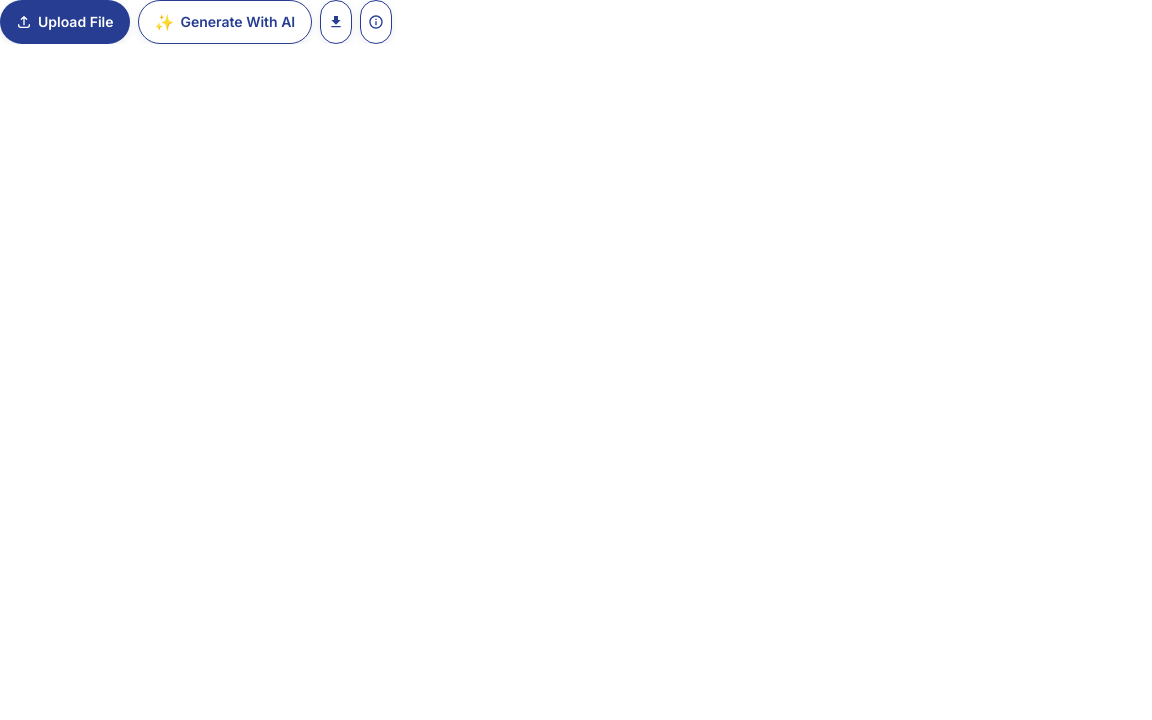
Test: UploadAndGenerateHeader uploaded files › leaves out counts a file does not have
Step 1. Click the button named "View uploaded files" → (376, 22), box [360,0,392,44]
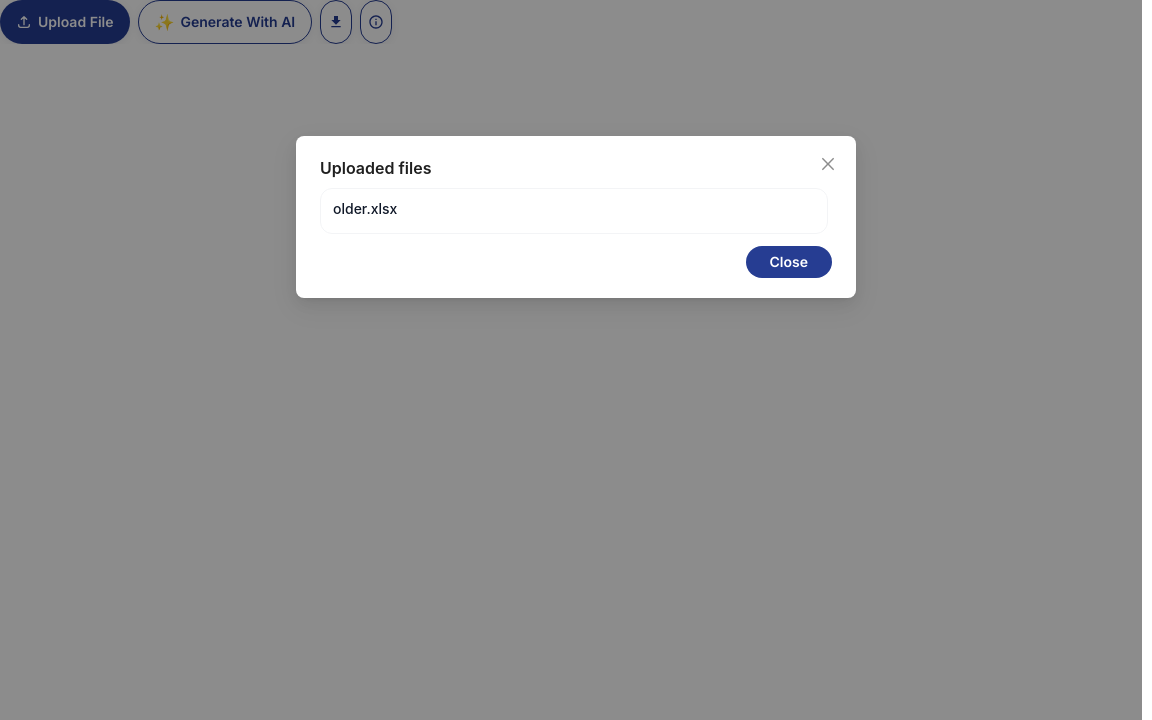
Result: the text "older.xlsx" is shown at [333,200,397,217]
